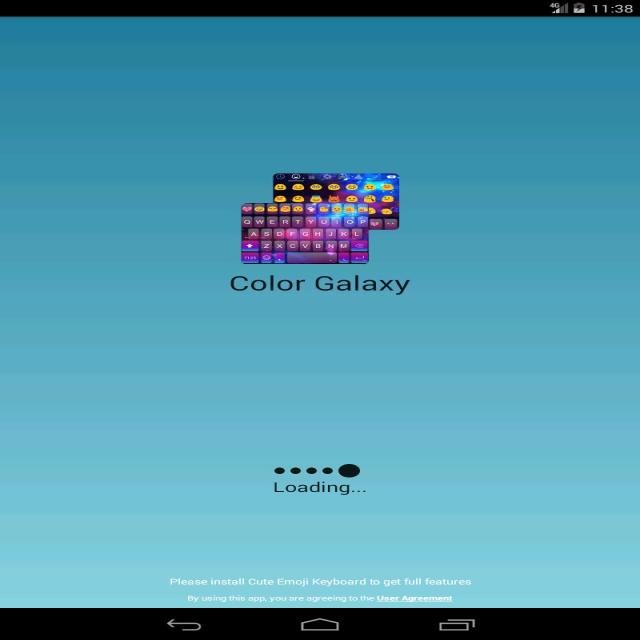heading: (227, 273, 413, 300)
image: (0, 17, 640, 610), (238, 169, 398, 267)
text: (165, 575, 472, 606), (271, 476, 370, 499)
